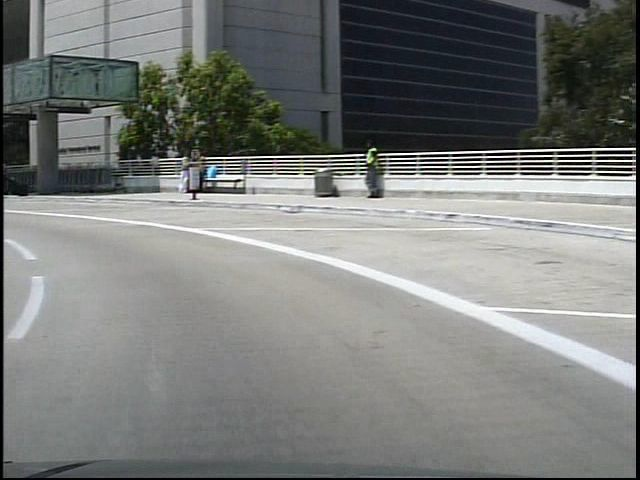person: (353, 139, 377, 203)
